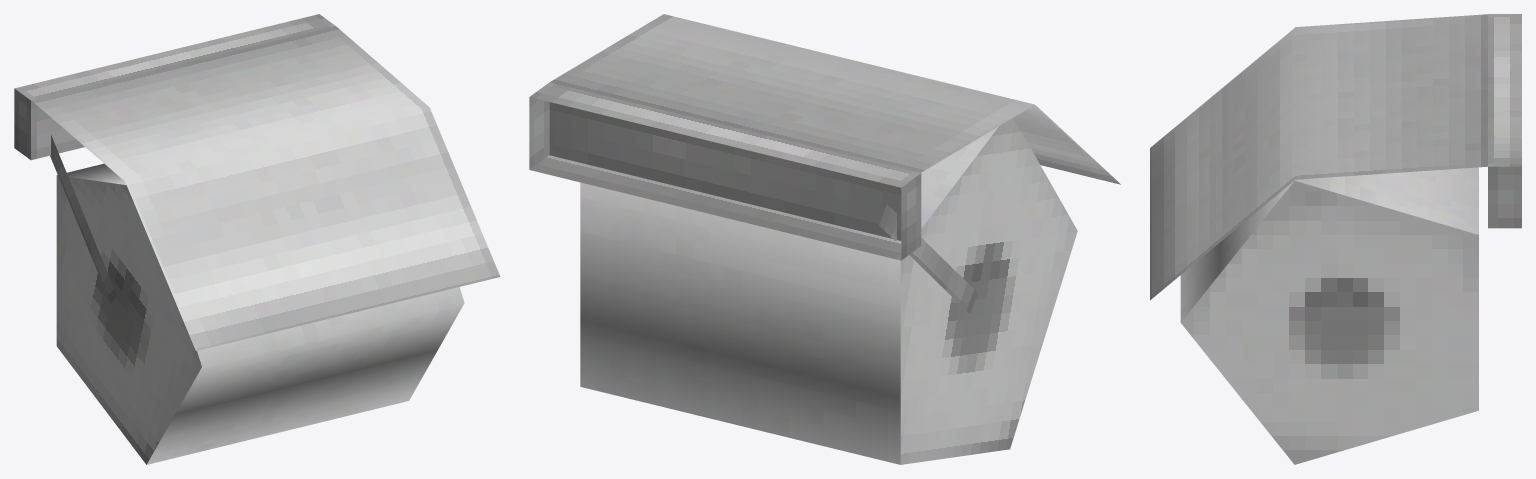
Rendered from ToiletPaper.glb.
3 views of the same model, side by side, from view 1: azimuth 30°, elevation 25°; view 2: azimuth 150°, elevation 25°; view 3: azimuth 270°, elevation 25° (orthographic). The views are drawn at different scales.
Visible parts, largest first — view 1: toilet paper; view 2: toilet paper; view 3: toilet paper.
Boxes of the visible parts, x1,y1,x2,y2 form: toilet paper: (14, 14, 500, 464); toilet paper: (529, 14, 1120, 464); toilet paper: (1150, 14, 1521, 464).
Bounding box in the file's own units: 0.1067 × 0.1005 × 0.1098.
1 material, 1 textured.
